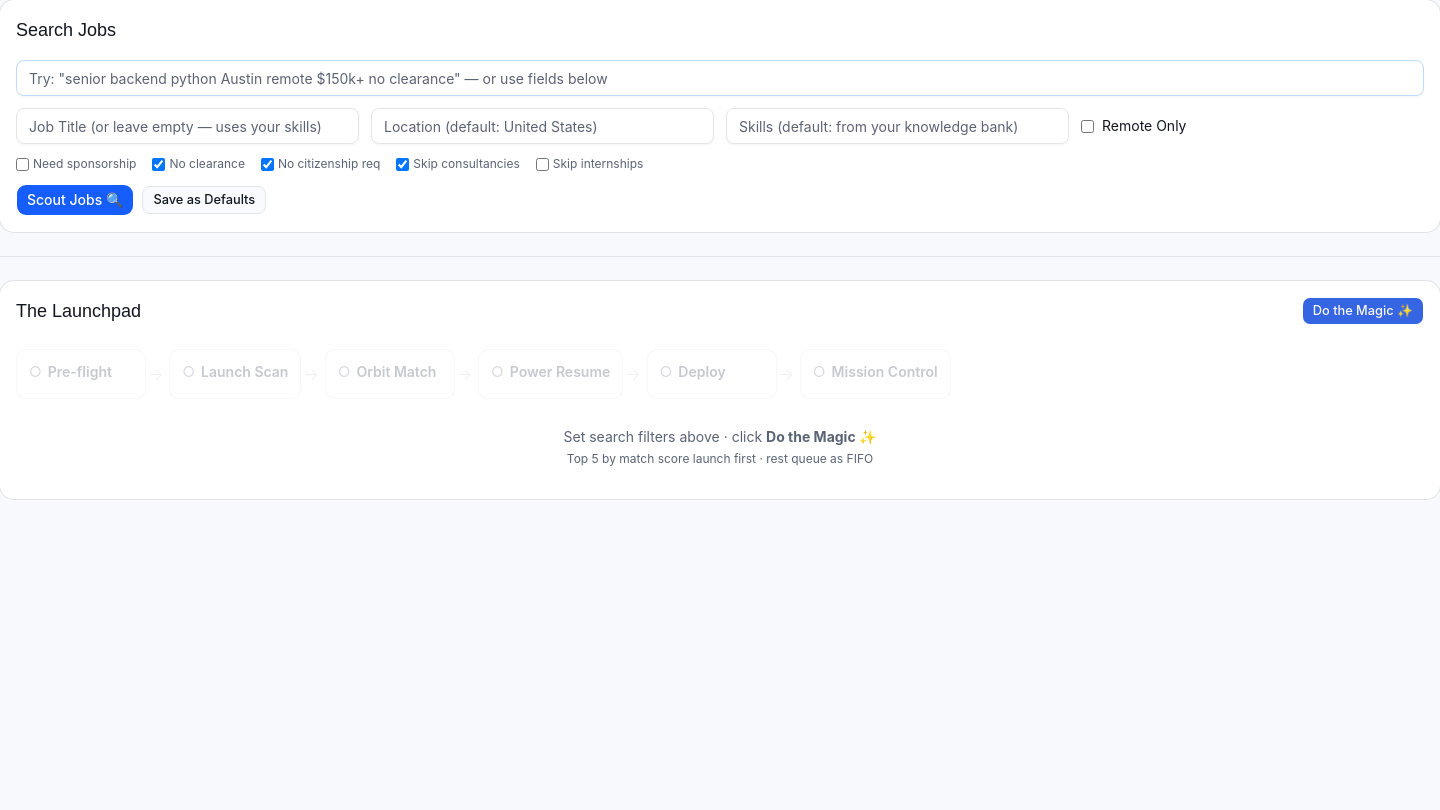
it: JobSearchTab — profile defaults › Save-as-Defaults shows the api error in a toast
Click the button "Save as Defaults" at (204, 200), box [142,186,266,214]
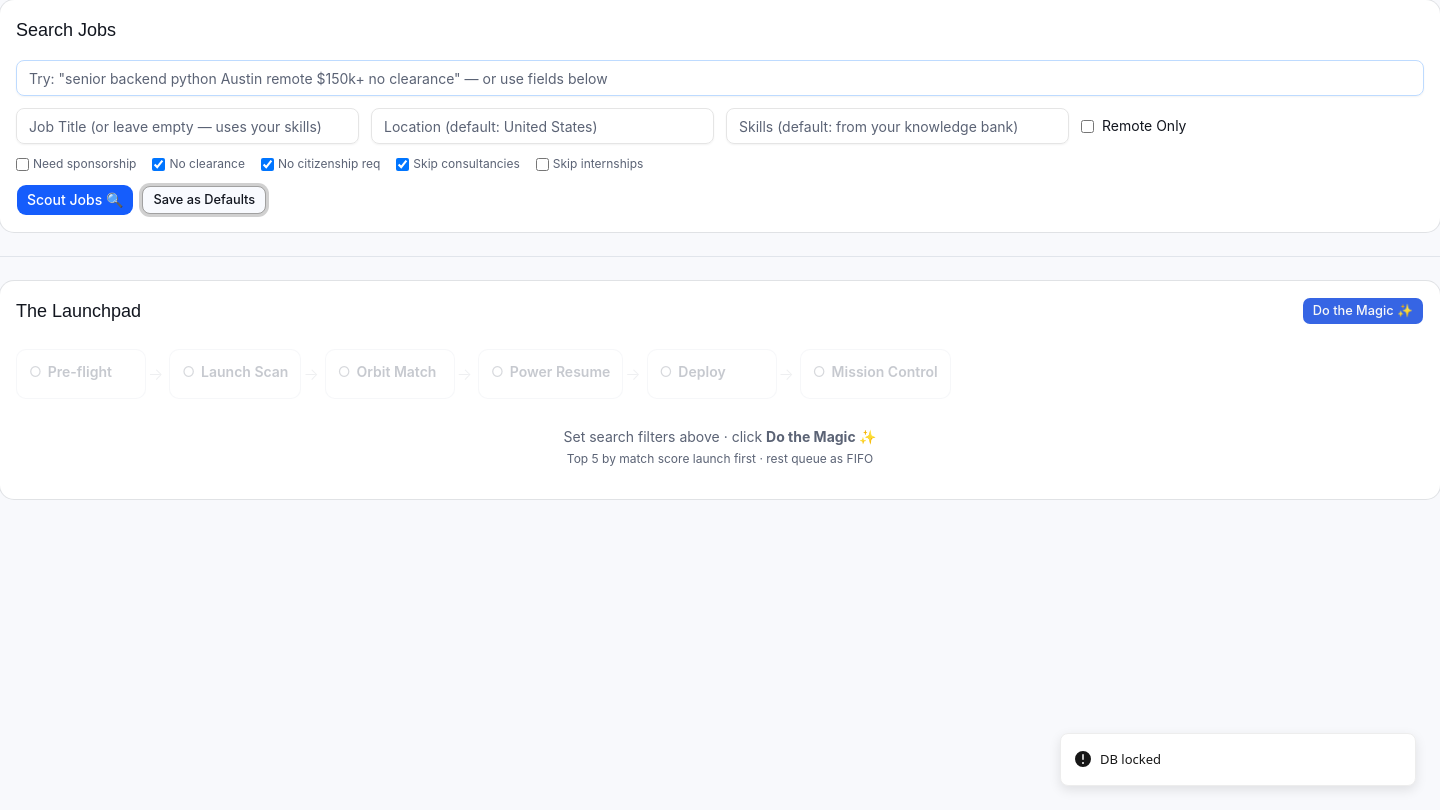
Check: the text "DB locked" is shown, box [1100,750,1161,769]
